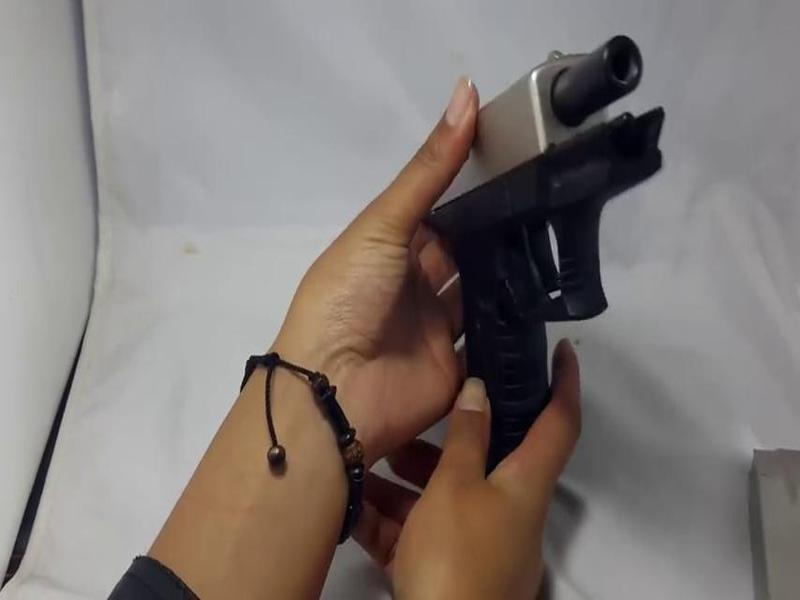Pistola: (367, 30, 694, 467)
